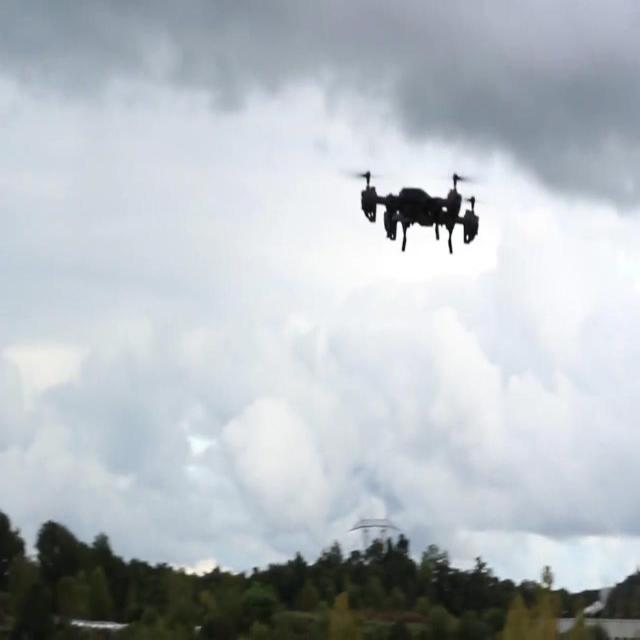drone: (358, 168, 482, 255)
